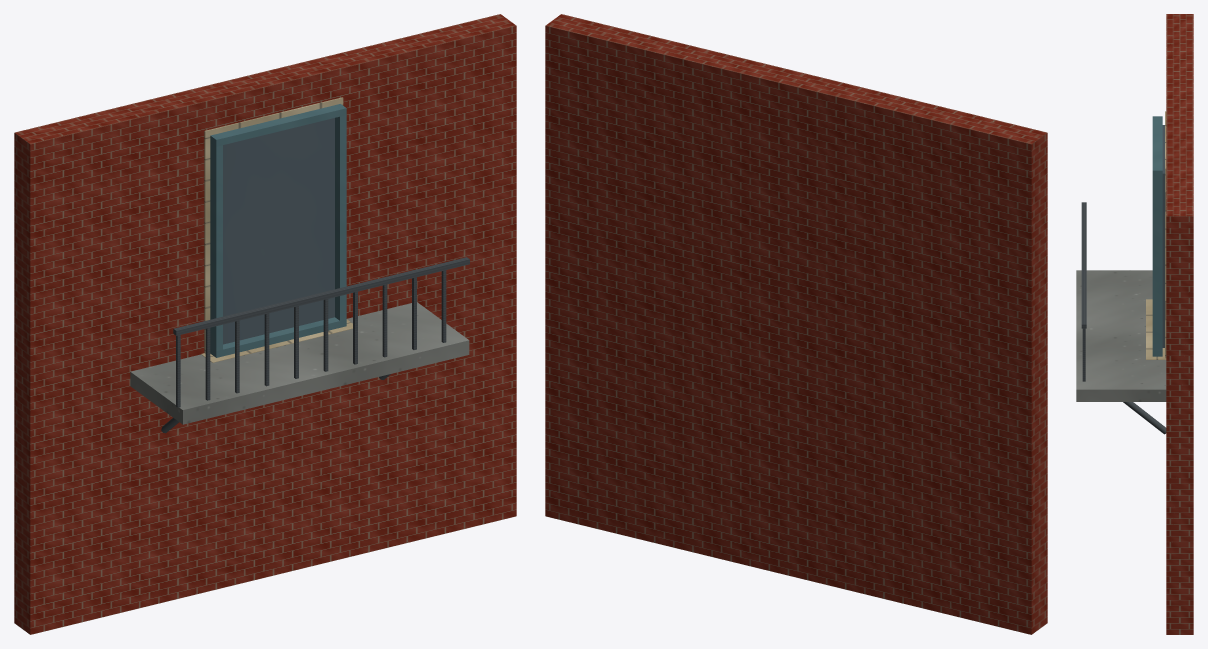
The model's file is facade-iron-balcony.lod1.gltf.
The picture shows the model from 3 angles, left to right: view 1: azimuth 30°, elevation 25°; view 2: azimuth 150°, elevation 25°; view 3: azimuth 270°, elevation 25°; orthographic projection. The views are drawn at different scales.
Parts seen in each view (by area): view 1: facade-iron-balcony; view 2: facade-iron-balcony; view 3: facade-iron-balcony.
Part boxes in pixels (x1,y1,x2,y2): facade-iron-balcony: [14, 14, 516, 634]; facade-iron-balcony: [545, 14, 1047, 634]; facade-iron-balcony: [1076, 14, 1193, 634].
Size of the model in its own units: 5.6 by 5.4 by 1.37.
6 materials, 6 textured.
